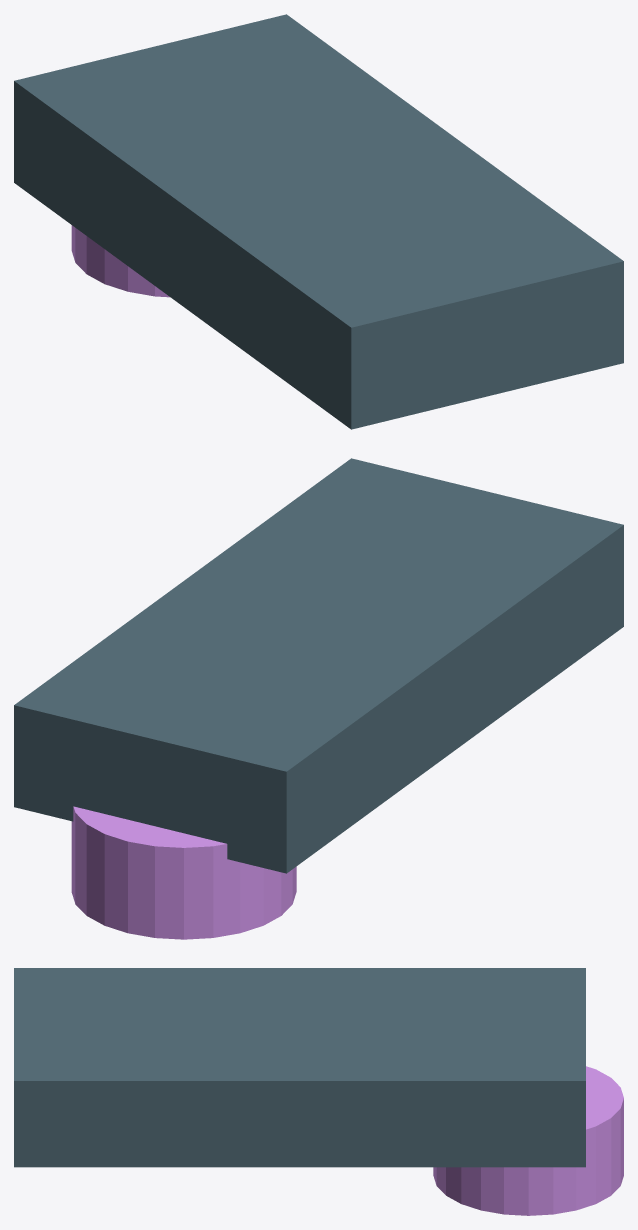
File: smart-lock.glb
The picture shows the model from 3 angles, top to bottom: view 1: azimuth 30°, elevation 25°; view 2: azimuth 150°, elevation 25°; view 3: azimuth 270°, elevation 25°; orthographic projection. The views are drawn at different scales.
Parts seen in each view (by area): view 1: world; view 2: world; view 3: world.
Part boxes in pixels (x1,y1,x2,y2): world: (14,14,623,429); world: (14,458,623,939); world: (14,968,623,1215).
Bounding box in the file's own units: 0.28 × 0.175 × 0.64.
